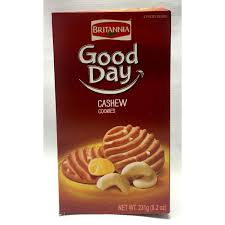gooday-large: (51, 7, 173, 216)
